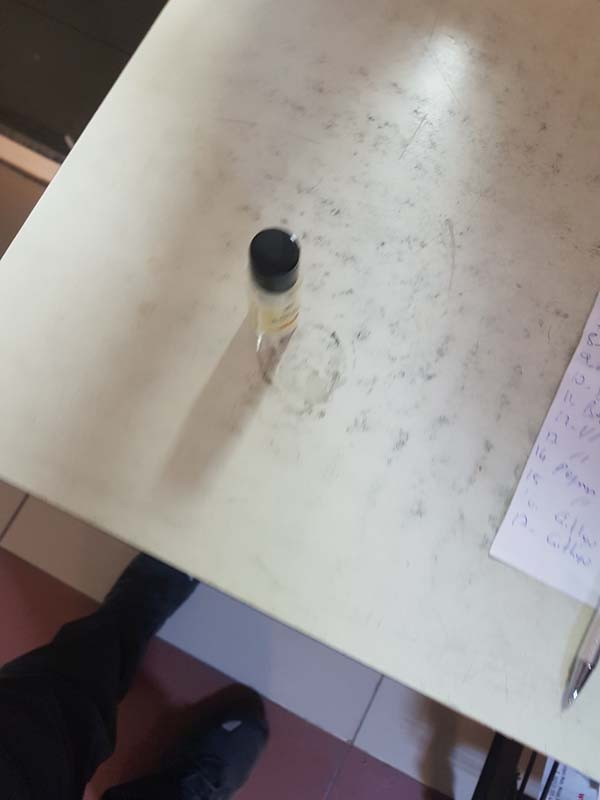redbulkolonya: (241, 220, 310, 340)
